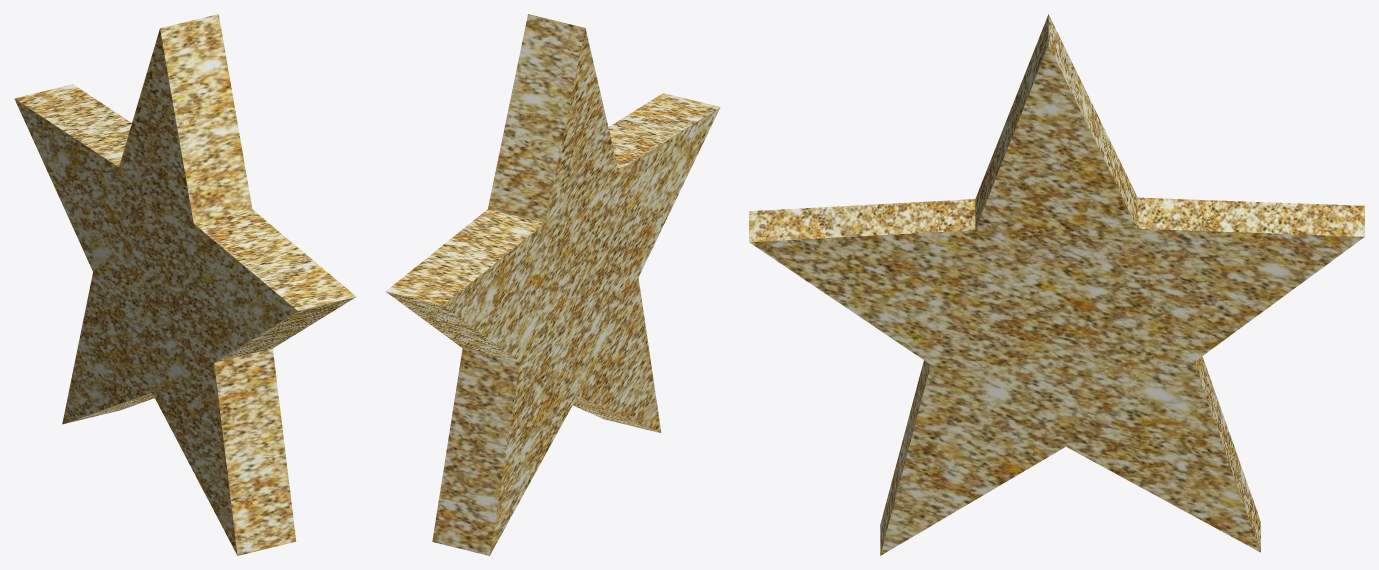
Rendered from Estrella.fbx.
3 renders of one model, left to right at view 1: azimuth 30°, elevation 25°; view 2: azimuth 150°, elevation 25°; view 3: azimuth 270°, elevation 25°, orthographic. The views are drawn at different scales.
Parts seen in each view (by area): view 1: Circle; view 2: Circle; view 3: Circle.
Boxes of the visible parts, bbox=[...] form: Circle: bbox=[14, 14, 356, 555]; Circle: bbox=[385, 14, 720, 555]; Circle: bbox=[749, 14, 1364, 555].
Size of the model in its own units: 50 by 383 by 419.
